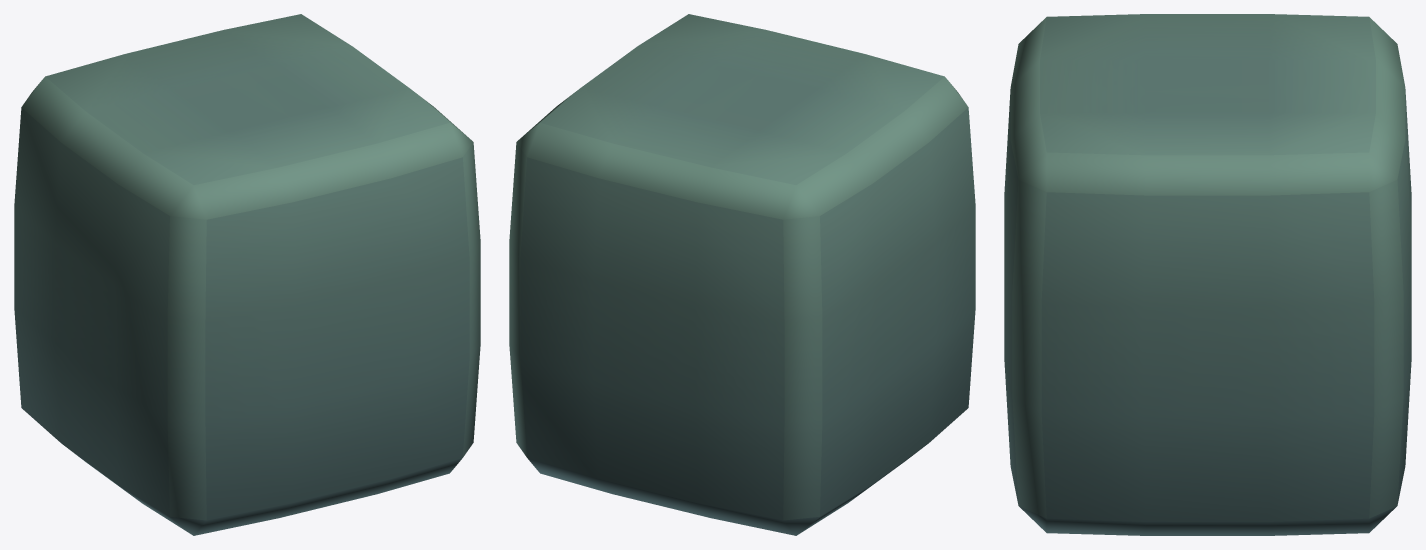
File: cube_1m_light.fbx
3 renders of one model, left to right at view 1: azimuth 30°, elevation 25°; view 2: azimuth 150°, elevation 25°; view 3: azimuth 270°, elevation 25°, orthographic. The views are drawn at different scales.
Parts seen in each view (by area): view 1: cube_1m_light; view 2: cube_1m_light; view 3: cube_1m_light.
Part boxes in pixels (x1,y1,x2,y2): cube_1m_light: (14,14,480,535); cube_1m_light: (509,14,975,535); cube_1m_light: (1004,14,1411,535).
Size of the model in its own units: 112 by 115 by 112.
